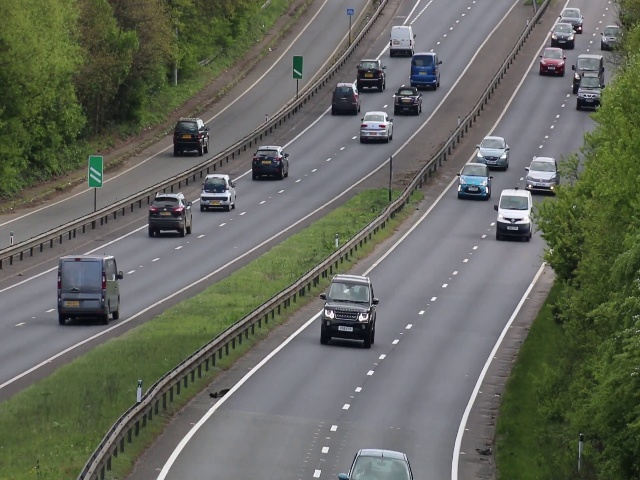car: (55, 255, 122, 327), (321, 272, 377, 347), (148, 192, 193, 239), (499, 188, 531, 243), (199, 172, 238, 214), (172, 114, 210, 157), (408, 53, 442, 91), (251, 145, 289, 179), (526, 155, 557, 196), (359, 111, 394, 143), (460, 163, 490, 200), (477, 134, 510, 167), (330, 82, 361, 116), (356, 60, 387, 93), (392, 86, 422, 116), (388, 25, 415, 58), (538, 47, 566, 76), (579, 78, 603, 107), (550, 23, 577, 47), (577, 53, 603, 77)
